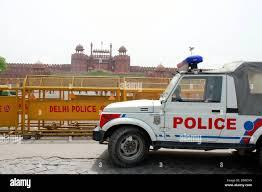Emergency-Vehicles: (93, 45, 262, 174)
